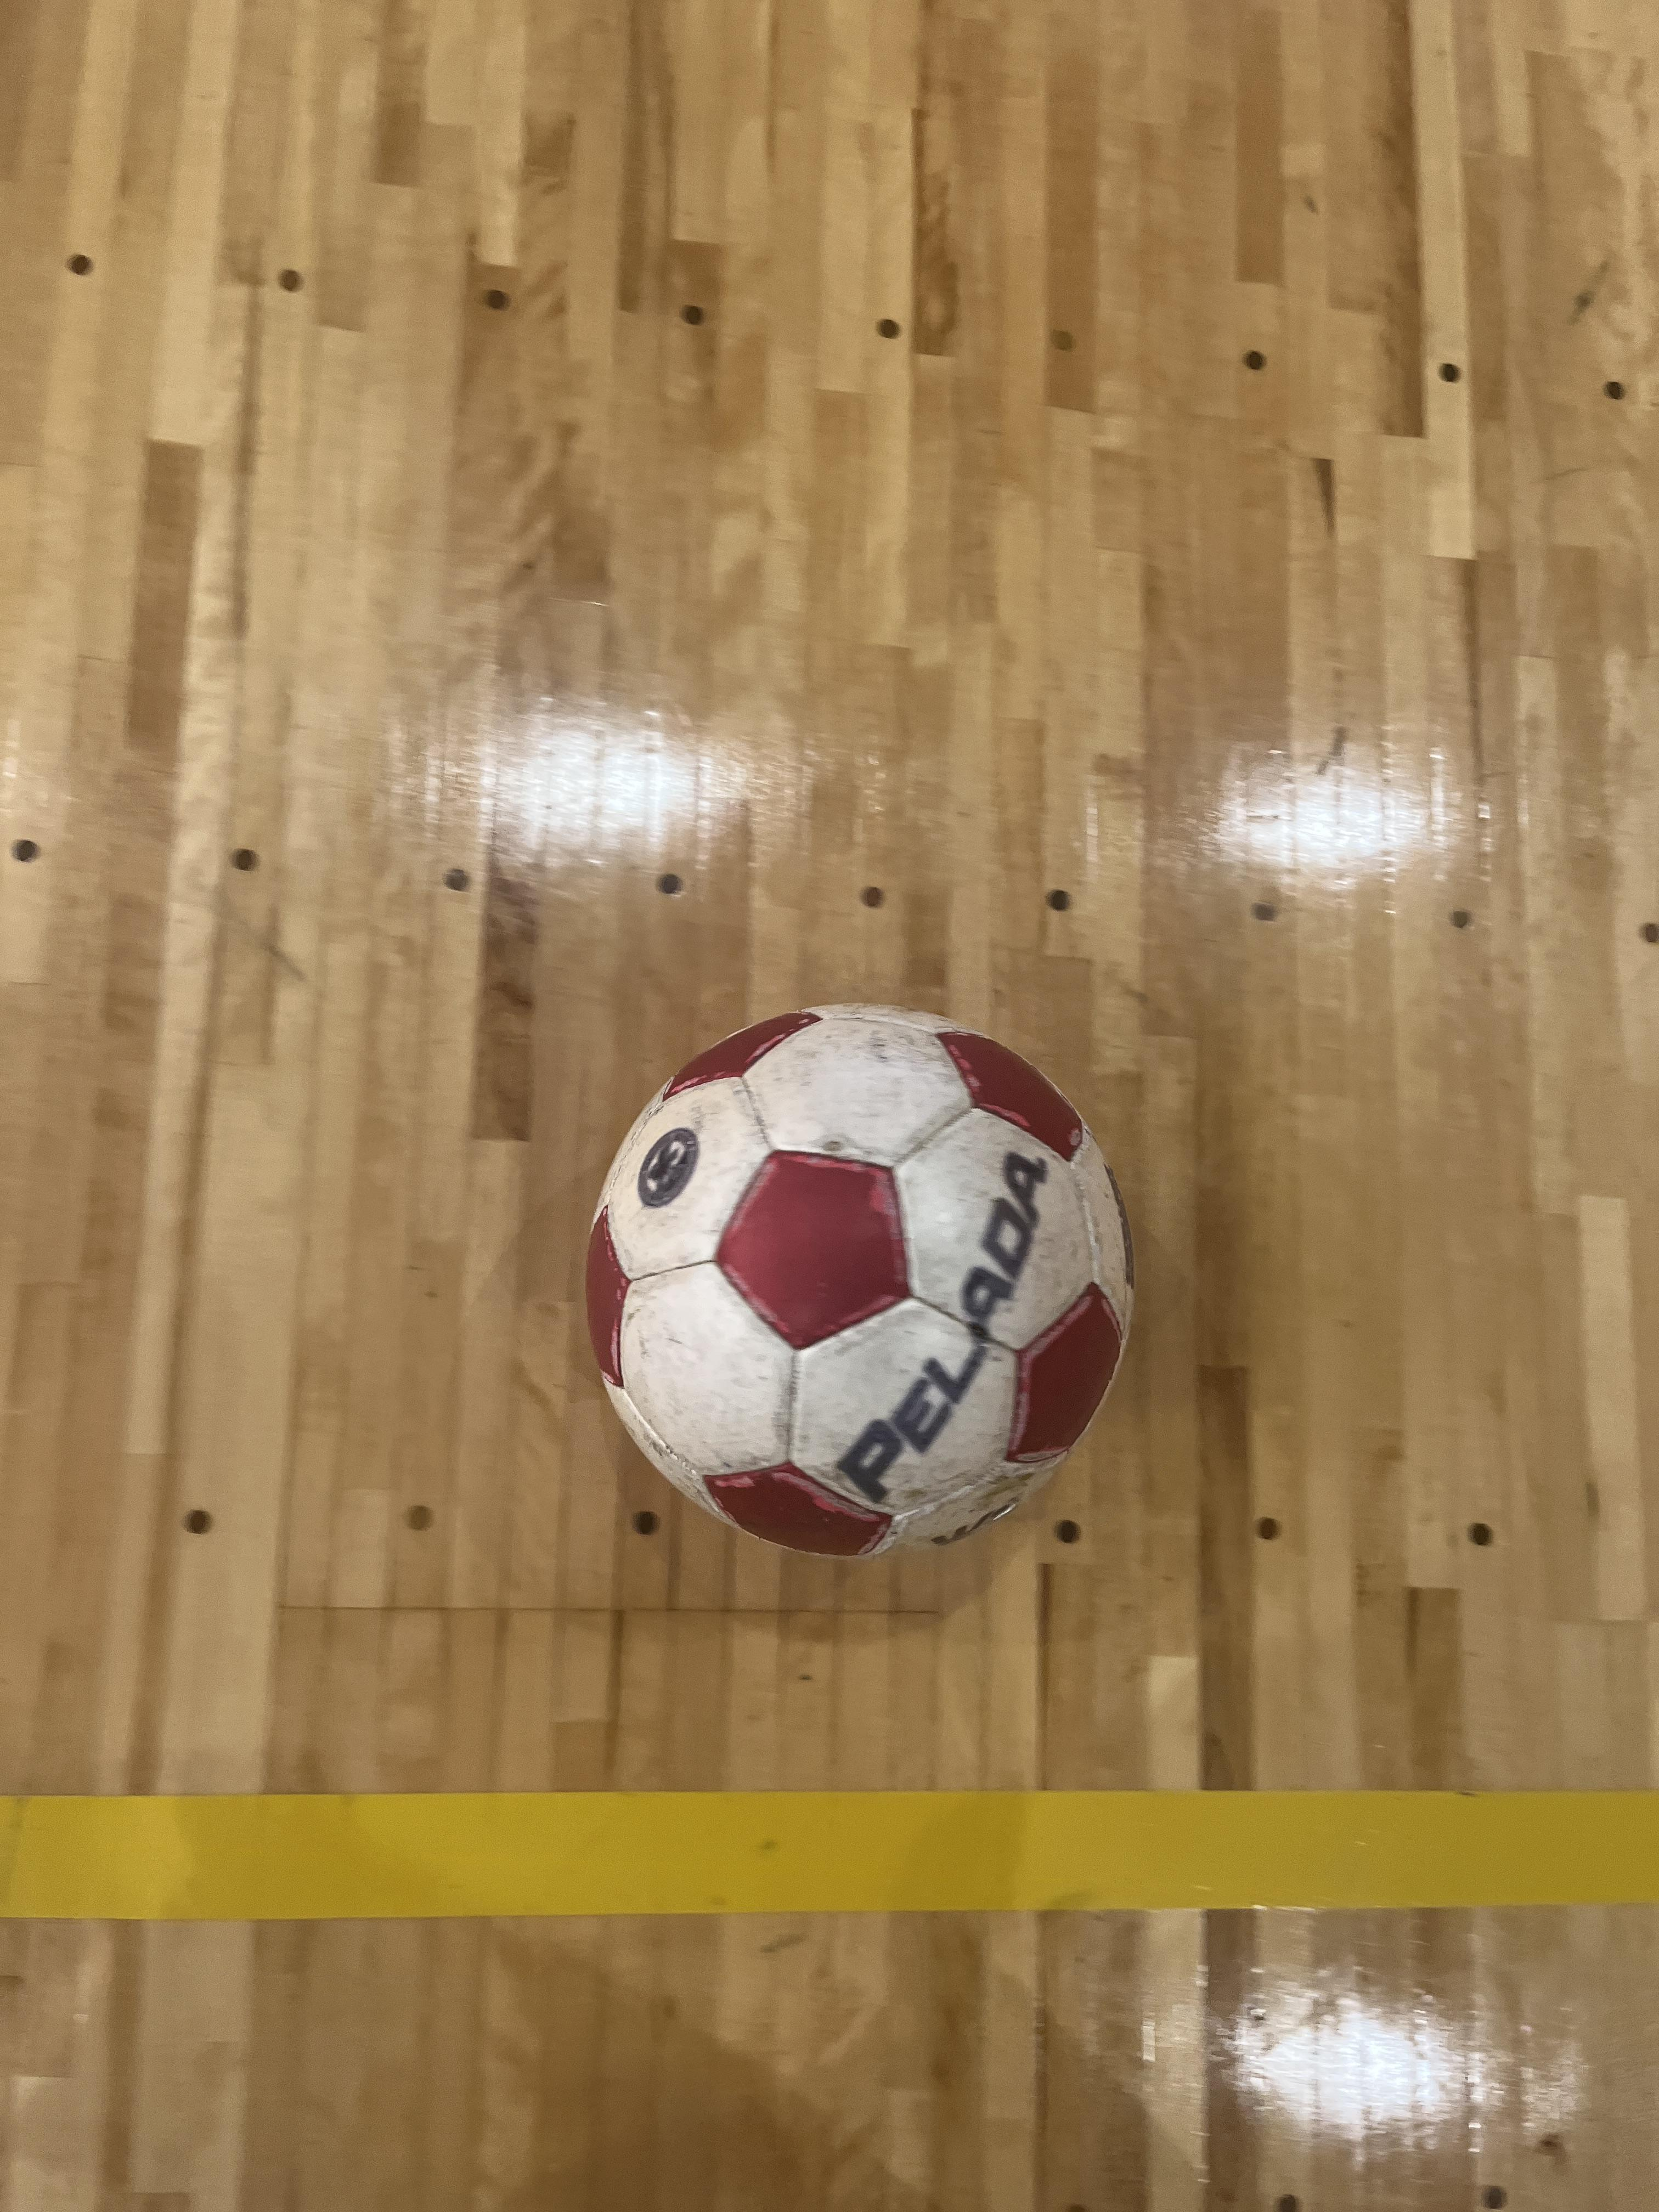Sports-Ball: (589, 1001, 1143, 1557)
